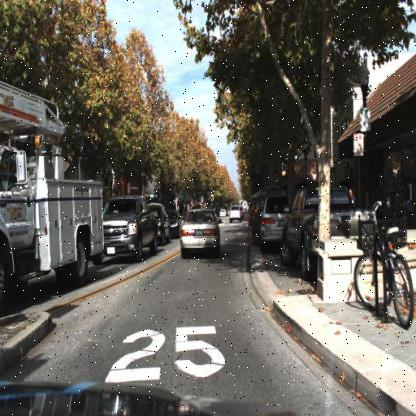car: (282, 184, 375, 274), (100, 193, 158, 266), (177, 205, 223, 261), (259, 194, 283, 249), (154, 202, 169, 255), (228, 201, 243, 227)
truck: (0, 90, 104, 300)
